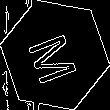M_E: (25, 25, 85, 85)
